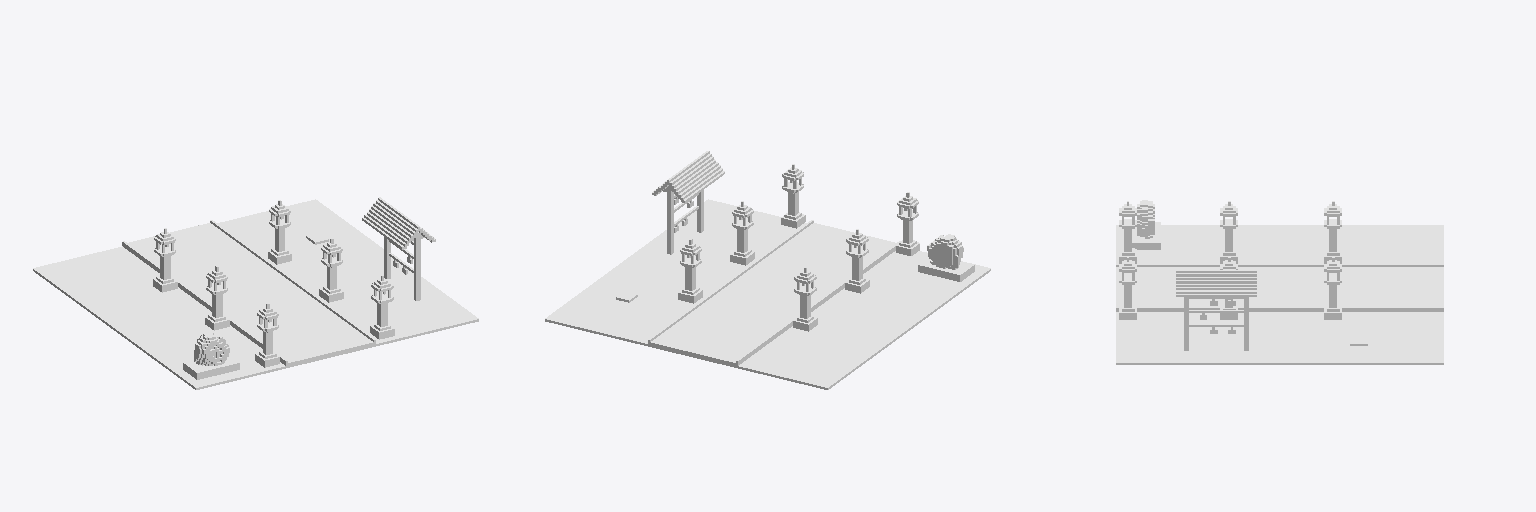
File: GDS2_Shrine-1.obj
The picture shows the model from 3 angles: view 1: azimuth 30°, elevation 25°; view 2: azimuth 150°, elevation 25°; view 3: azimuth 270°, elevation 25°; orthographic projection.
Parts seen in each view (by area): view 1: GDS2_Shrine-1; view 2: GDS2_Shrine-1; view 3: GDS2_Shrine-1.
Part boxes in pixels (bbox=[...]): GDS2_Shrine-1: bbox=[33, 197, 478, 389]; GDS2_Shrine-1: bbox=[545, 151, 990, 389]; GDS2_Shrine-1: bbox=[1116, 200, 1443, 364].
Bounding box in the file's own units: 12.6 × 3.4 × 12.6.